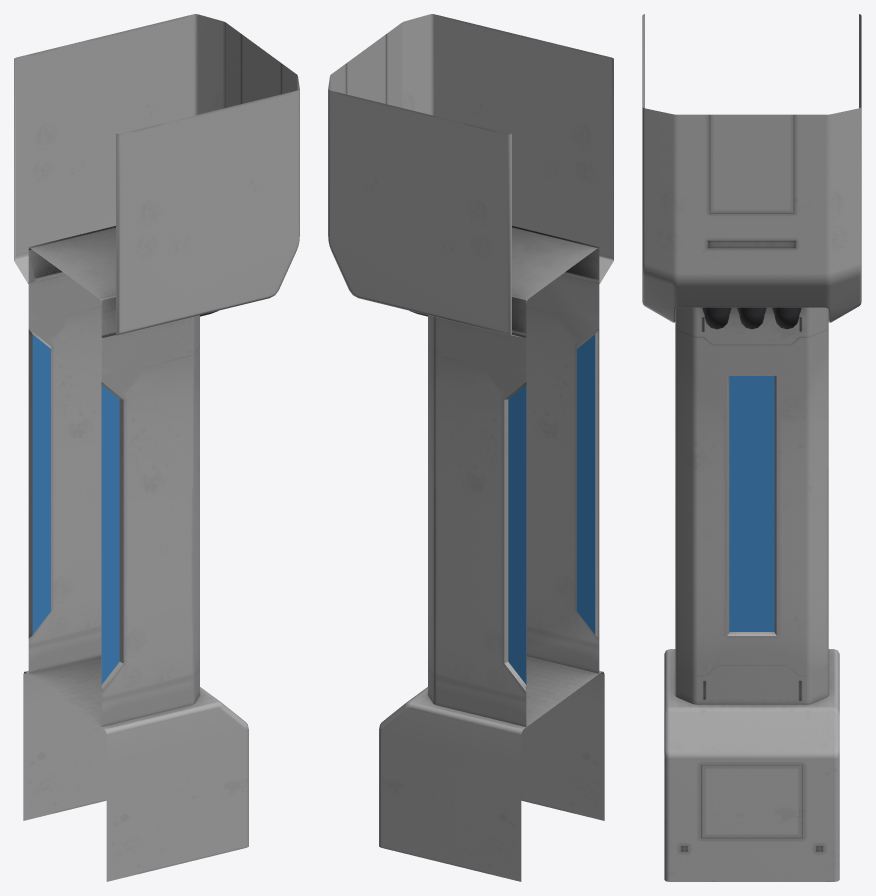
File: Pillar.fbx
The picture shows the model from 3 angles, left to right: view 1: azimuth 30°, elevation 25°; view 2: azimuth 150°, elevation 25°; view 3: azimuth 270°, elevation 25°; orthographic projection. The views are drawn at different scales.
Visible parts, largest first — view 1: Pillar3; view 2: Pillar3; view 3: Pillar3.
Boxes of the visible parts, <box> form: Pillar3: <box>14,14,299,881</box>; Pillar3: <box>328,14,613,881</box>; Pillar3: <box>642,14,861,881</box>.
Size of the model in its own units: 114 by 419 by 105.
